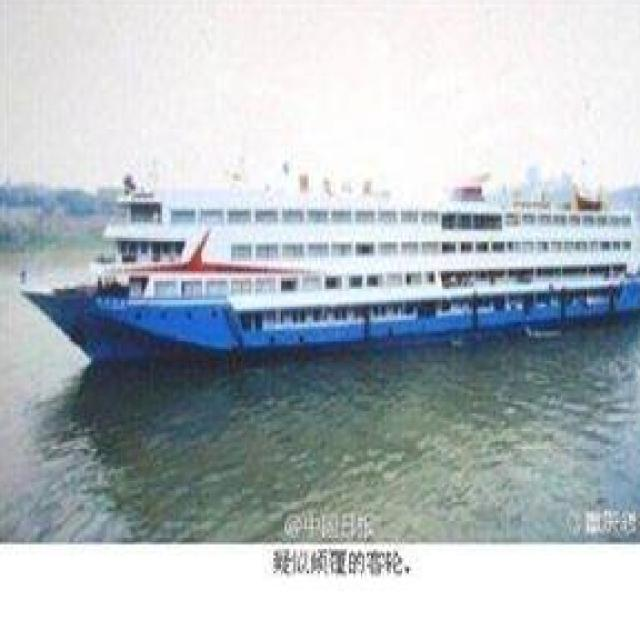passenger ship: (29, 156, 640, 354)
